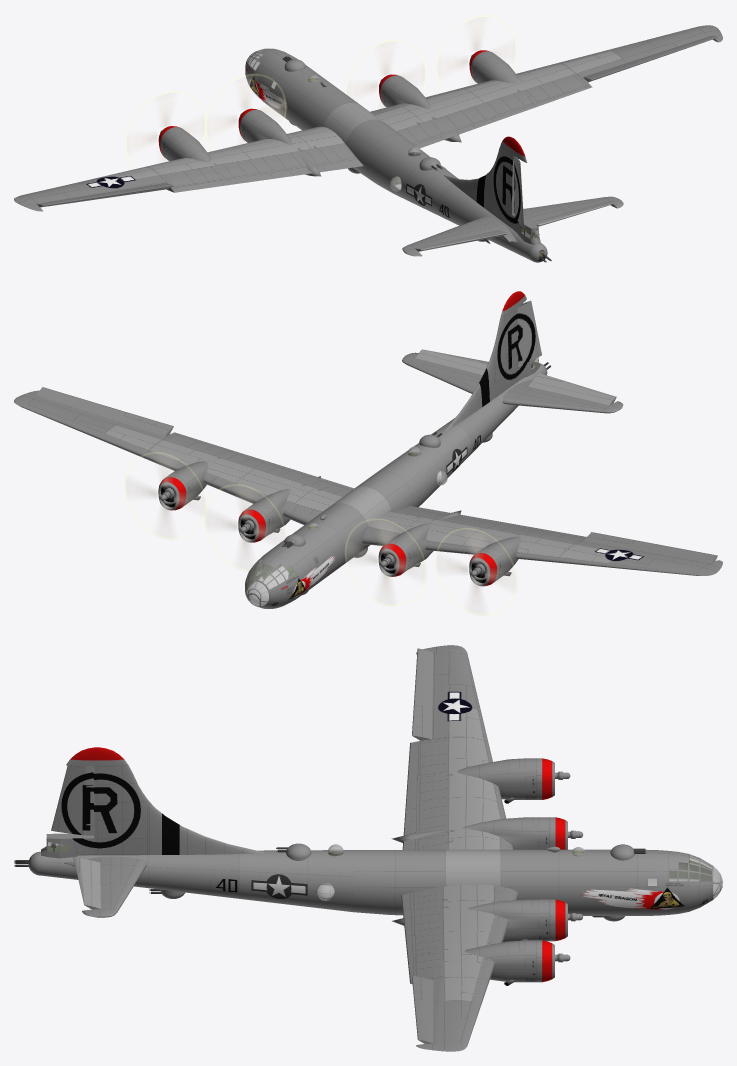
The model's file is b29_flyt_6bg_npa35c.glb.
3 renders of one model, top to bottom at view 1: azimuth 30°, elevation 25°; view 2: azimuth 150°, elevation 25°; view 3: azimuth 270°, elevation 25°, orthographic. The views are drawn at different scales.
Parts seen in each view (by area): view 1: wingR, wingL, fuse2, tail_vert, fuse3, tail_horz, fuse1, fuse4, prop1, prop3, prop2, engine3 (+9 smaller); view 2: wingR, wingL, fuse2, tail_vert, tail_horz, fuse1, fuse3, prop3, prop1, prop2, tail_elevator, prop4 (+10 smaller); view 3: wingL, fuse2, wingR, tail_vert, fuse1, fuse3, fuse4, engine4, engine1, engine2, engine3, tail_rudder (+7 smaller).
Part boxes in pixels (x1=…): wingR: x1=370, y1=25, x2=722, y2=148; wingL: x1=14, y1=126, x2=363, y2=211; fuse2: x1=281, y1=73, x2=420, y2=191; tail_vert: x1=444, y1=136, x2=540, y2=244; fuse3: x1=384, y1=147, x2=458, y2=217; tail_horz: x1=402, y1=196, x2=623, y2=256; fuse1: x1=245, y1=48, x2=319, y2=118; fuse4: x1=437, y1=184, x2=541, y2=260; prop1: x1=125, y1=91, x2=206, y2=168; prop3: x1=205, y1=74, x2=286, y2=150; prop2: x1=436, y1=15, x2=516, y2=91; engine3: x1=238, y1=108, x2=321, y2=176; wingR: x1=14, y1=390, x2=353, y2=524; wingL: x1=362, y1=506, x2=722, y2=575; fuse2: x1=292, y1=458, x2=429, y2=578; tail_vert: x1=443, y1=291, x2=540, y2=432; tail_horz: x1=402, y1=352, x2=623, y2=413; fuse1: x1=245, y1=533, x2=328, y2=608; fuse3: x1=393, y1=423, x2=472, y2=499; prop3: x1=345, y1=519, x2=426, y2=605; prop1: x1=435, y1=528, x2=516, y2=615; prop2: x1=125, y1=452, x2=205, y2=539; tail_elevator: x1=415, y1=349, x2=616, y2=405; prop4: x1=205, y1=484, x2=285, y2=571; wingL: x1=402, y1=645, x2=513, y2=849; fuse2: x1=354, y1=849, x2=598, y2=915; wingR: x1=401, y1=884, x2=518, y2=1051; tail_vert: x1=41, y1=747, x2=265, y2=858; fuse1: x1=598, y1=849, x2=713, y2=915; fuse3: x1=239, y1=850, x2=353, y2=912; fuse4: x1=40, y1=852, x2=238, y2=898; engine4: x1=392, y1=899, x2=567, y2=942; engine1: x1=457, y1=758, x2=554, y2=799; engine2: x1=465, y1=940, x2=554, y2=982; engine3: x1=391, y1=817, x2=567, y2=849; tail_rudder: x1=51, y1=765, x2=93, y2=835.
Size of the model in its own units: 139 by 28.65 by 102.
Materials: 33 (28 with a texture image).
